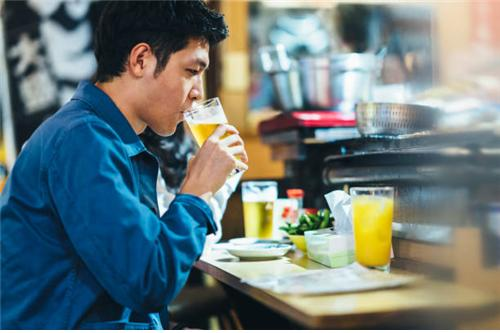alcohol: (186, 99, 249, 175), (240, 182, 278, 244)
